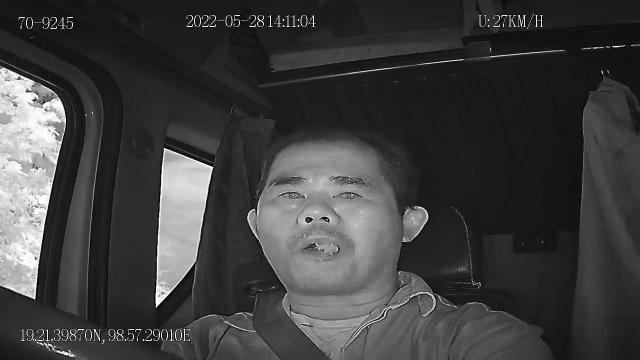SafeDriving: (268, 180, 312, 210), (326, 179, 370, 208)
Seatbelt: (251, 286, 333, 360)
